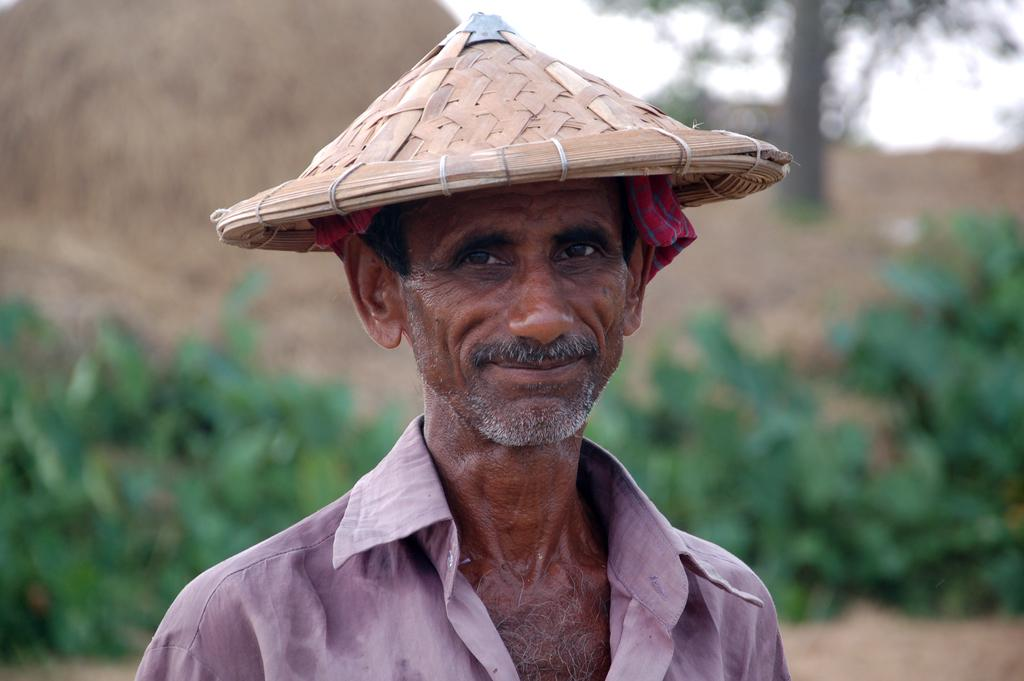Hat: (212, 11, 788, 253)
